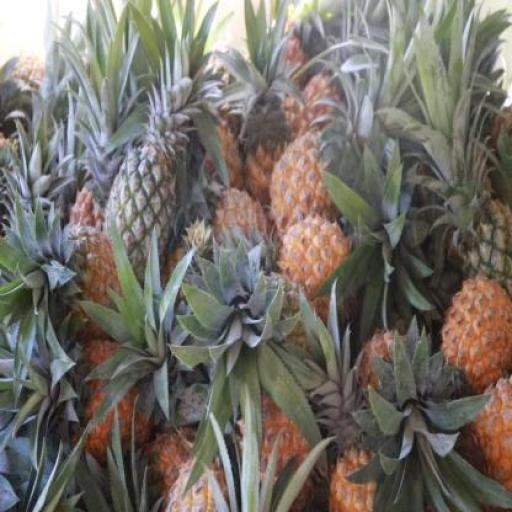Pineapple - v8 v1: (439, 278, 512, 393), (269, 138, 341, 240), (278, 214, 350, 303)
